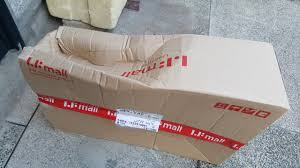damaged package: (23, 25, 192, 90)
